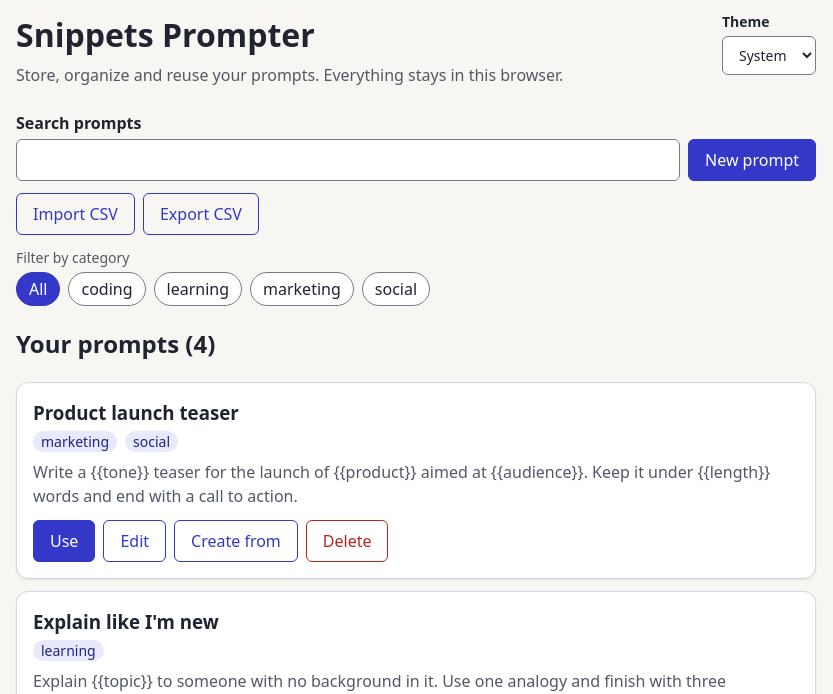
Scenario: App › filters by category
Click the button "coding" at point(107, 289), box [68, 272, 146, 306]
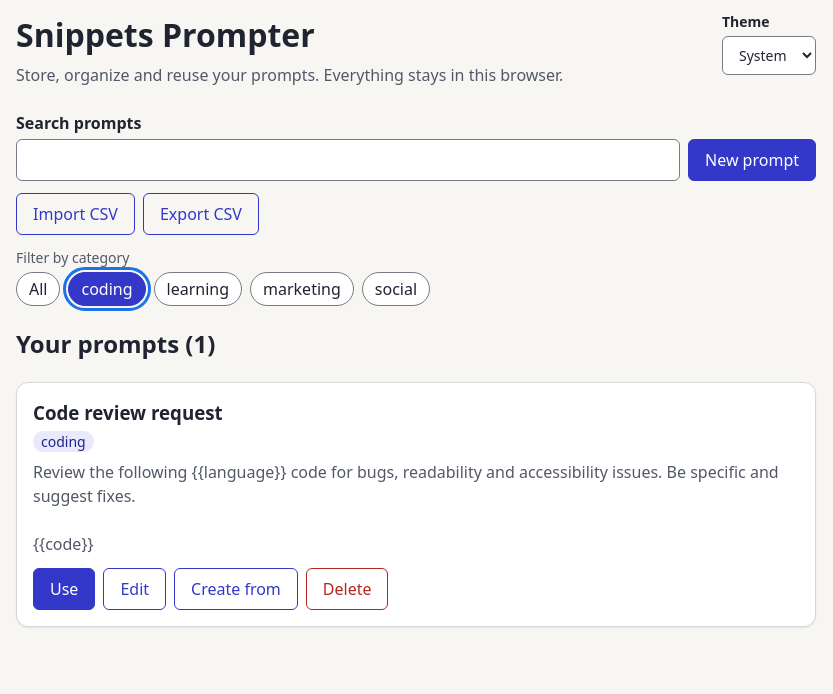
Expected: the heading "Code review request" is shown, [33, 400, 223, 425]
Expected: the heading "Product launch teaser" is gone
